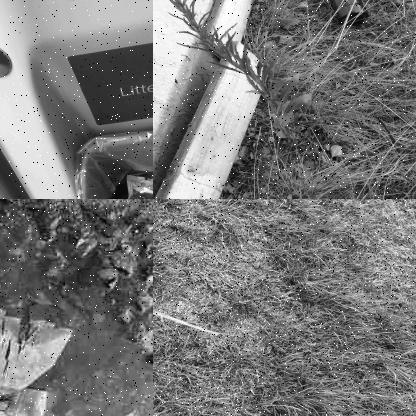glass: (313, 0, 369, 24)
plastic: (0, 302, 57, 415), (153, 302, 227, 345), (118, 157, 152, 198)
